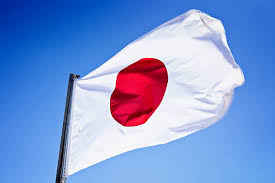Japanese Flag: (58, 9, 245, 178)
